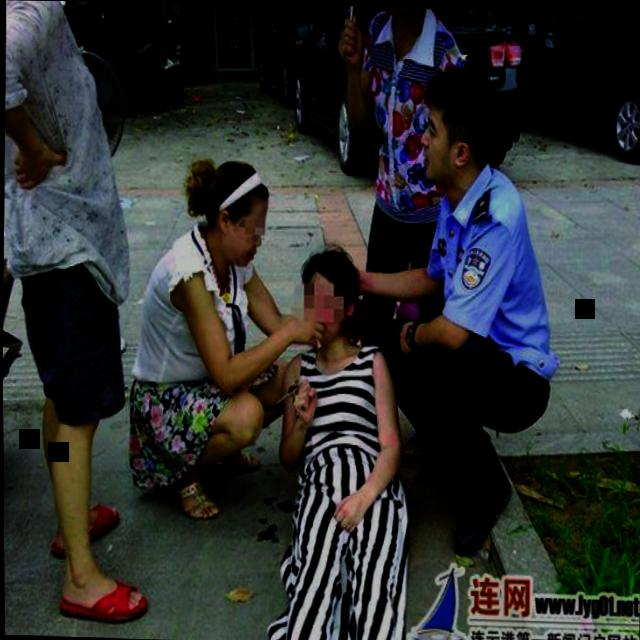Fall-Detected: (263, 227, 418, 640)
